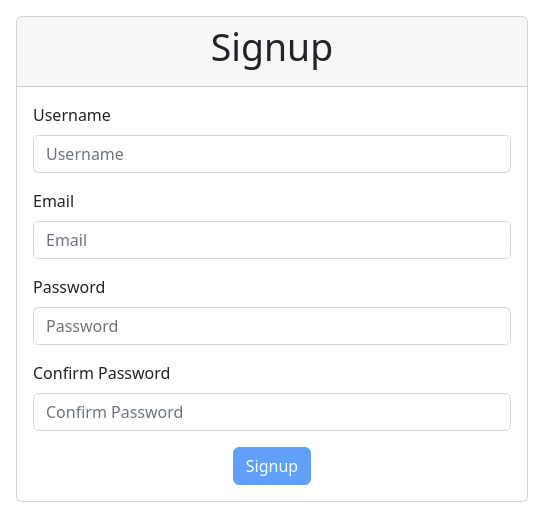
Signup Tests › Behavior › enables the button when password and confirm password match
The image size is (545, 519).
Type "username" into the field labelled "Username" at (272, 154), box [33, 135, 511, 173]
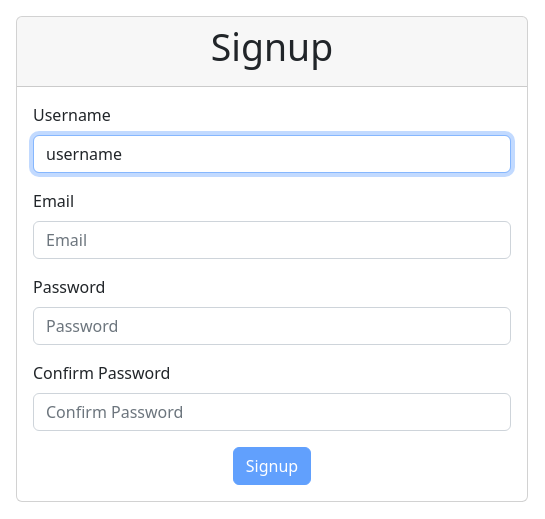
Type "email" into the field labelled "Email" at (272, 240), box [33, 221, 511, 259]
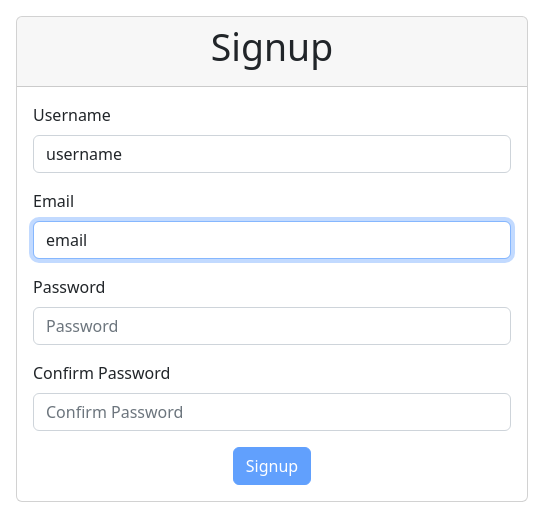
Type "password" into the password field labelled "Password" at (272, 326), box [33, 307, 511, 345]
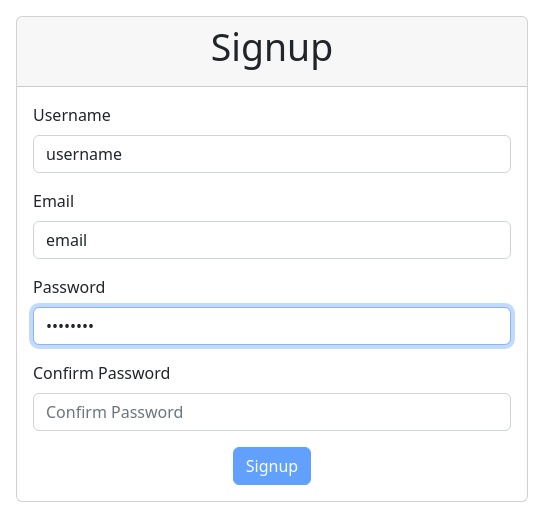
Type "password" into the password field labelled "Confirm Password" at (272, 412), box [33, 393, 511, 431]
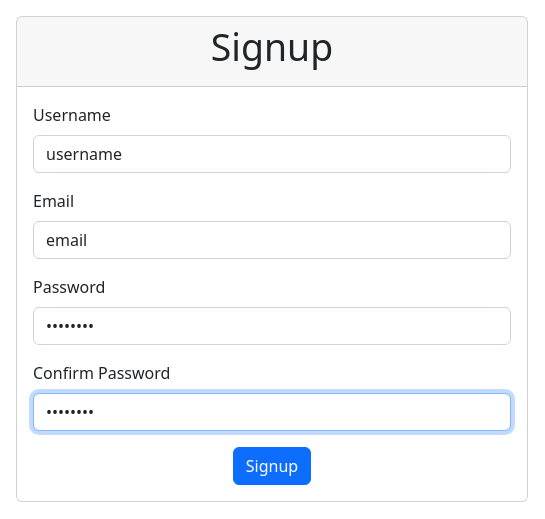
Expected: the button "Signup" is enabled, [233, 447, 311, 485]
